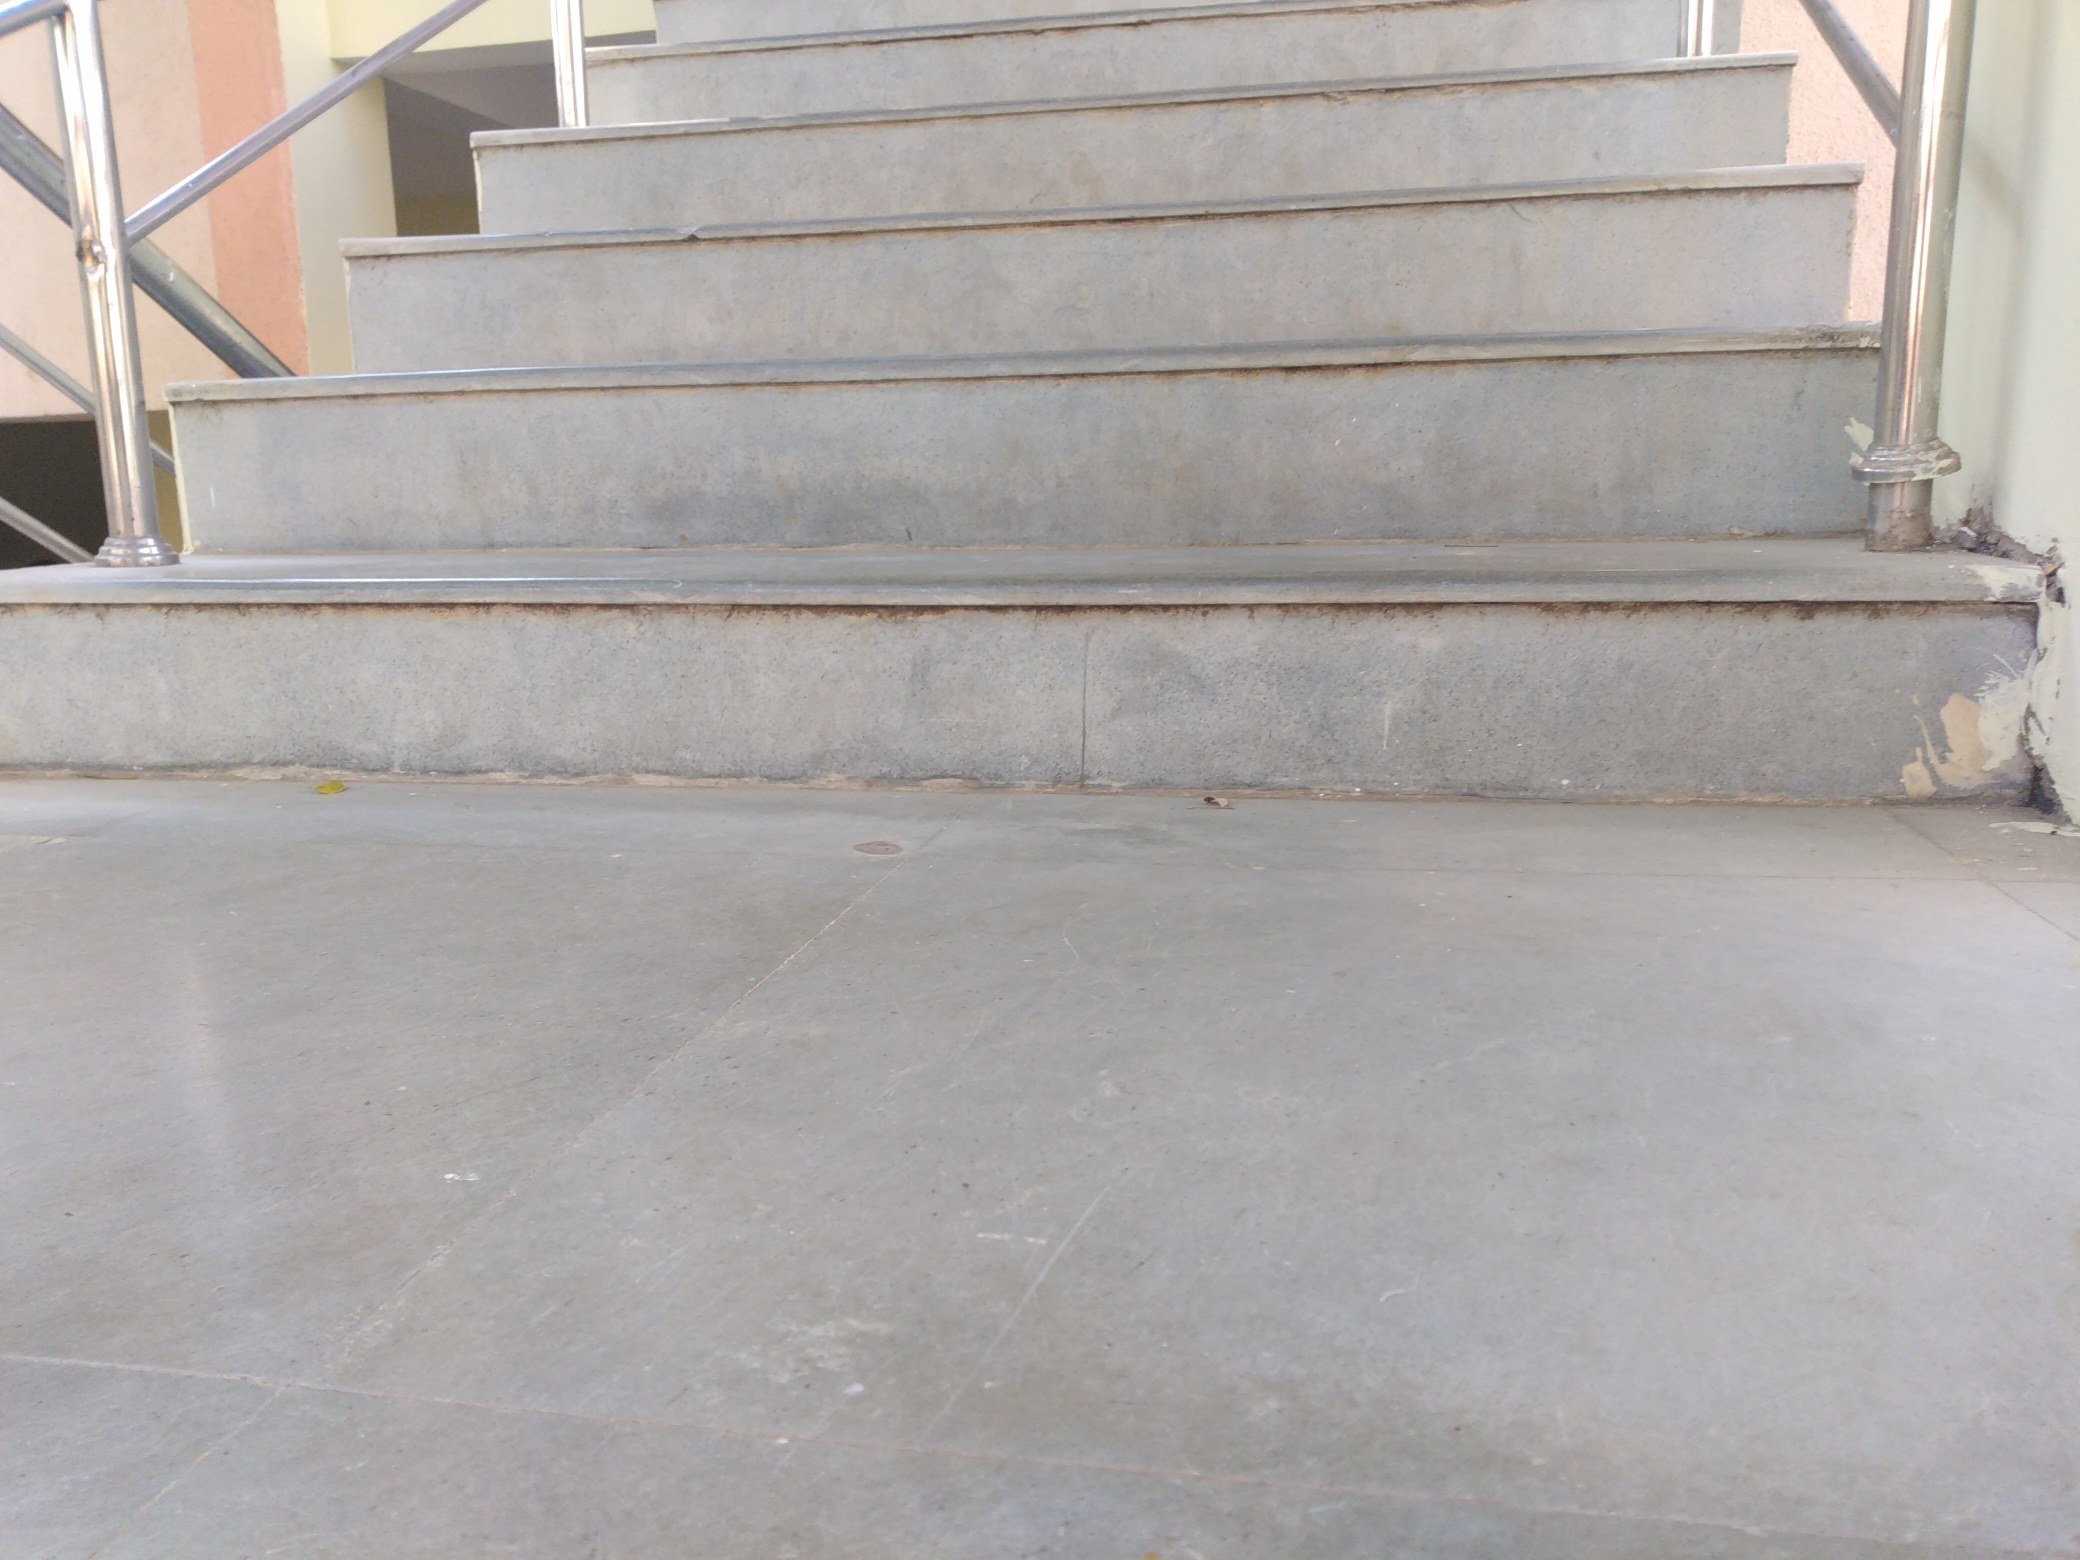stairs_up: (7, 120, 2036, 859)
